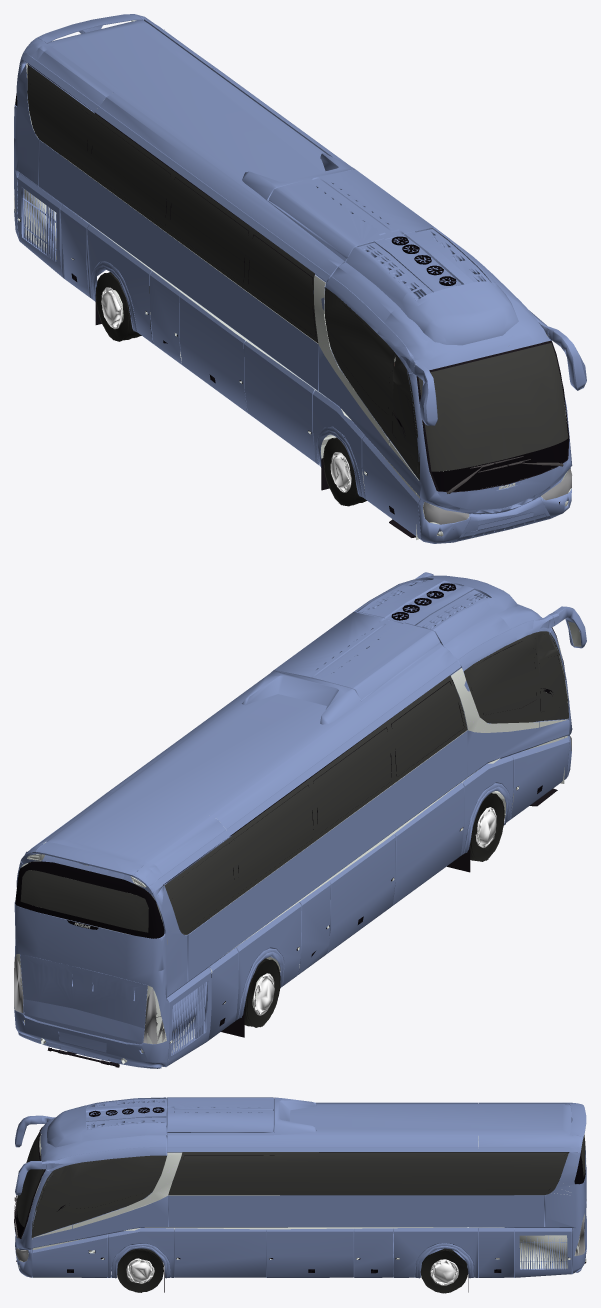
File: bus_school_fallback.glb
3 views of the same model, one above another, from view 1: azimuth 30°, elevation 25°; view 2: azimuth 150°, elevation 25°; view 3: azimuth 270°, elevation 25° (orthographic). The views are drawn at different scales.
Visible parts, largest first — view 1: Cube; view 2: Cube; view 3: Cube.
Part boxes in pixels (x1,y1,x2,y2): Cube: [14, 14, 586, 543]; Cube: [14, 572, 586, 1068]; Cube: [14, 1097, 586, 1293].
Size of the model in its own units: 3 by 4.18 by 13.61.
1 material, 1 textured.
